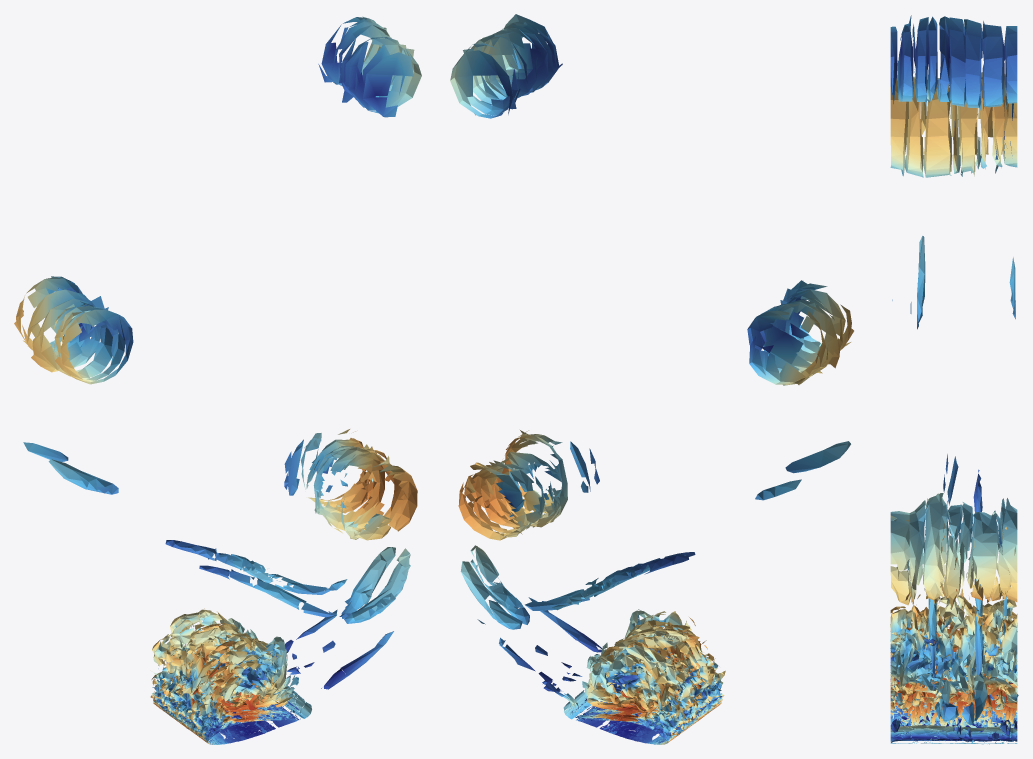
File: flowfield_5_Velocity.glb
3 views of the same model, side by side, from view 1: azimuth 30°, elevation 25°; view 2: azimuth 150°, elevation 25°; view 3: azimuth 270°, elevation 25° (orthographic). The views are drawn at different scales.
Parts seen in each view (by area): view 1: Renderer Node; view 2: Renderer Node; view 3: Renderer Node.
Boxes of the visible parts, x1,y1,x2,y2 form: Renderer Node: (14,16,421,744); Renderer Node: (450,14,853,744); Renderer Node: (890,15,1018,744).
Size of the model in its own units: 4.11 by 6.86 by 1.02.
1 material, 1 textured.
